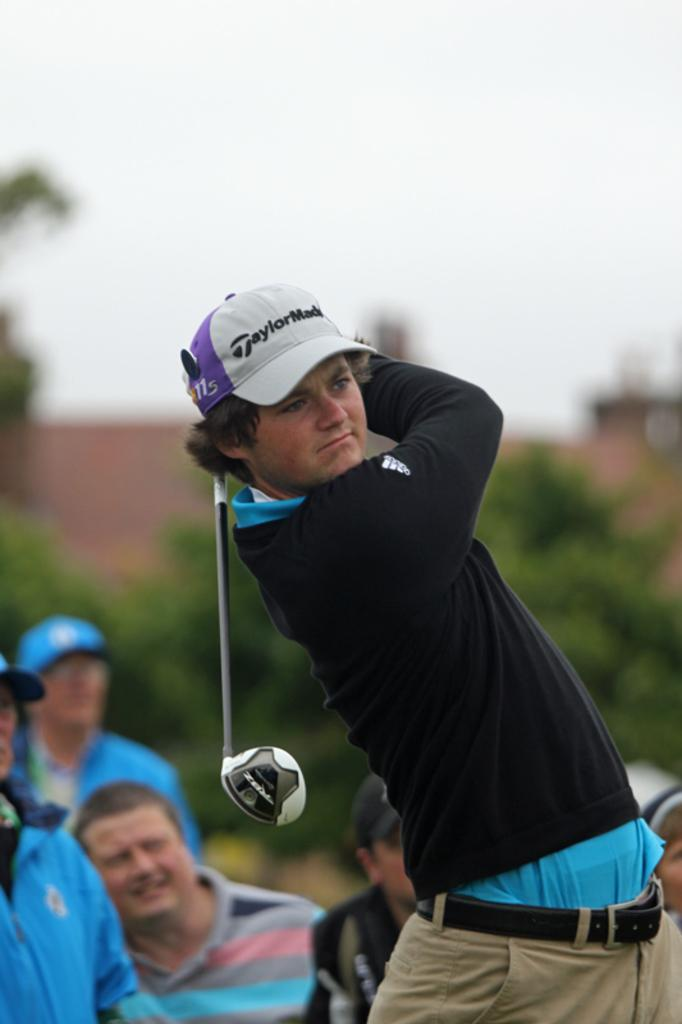Hat: (178, 274, 384, 418), (13, 612, 113, 670), (346, 774, 401, 841), (0, 648, 43, 698)
